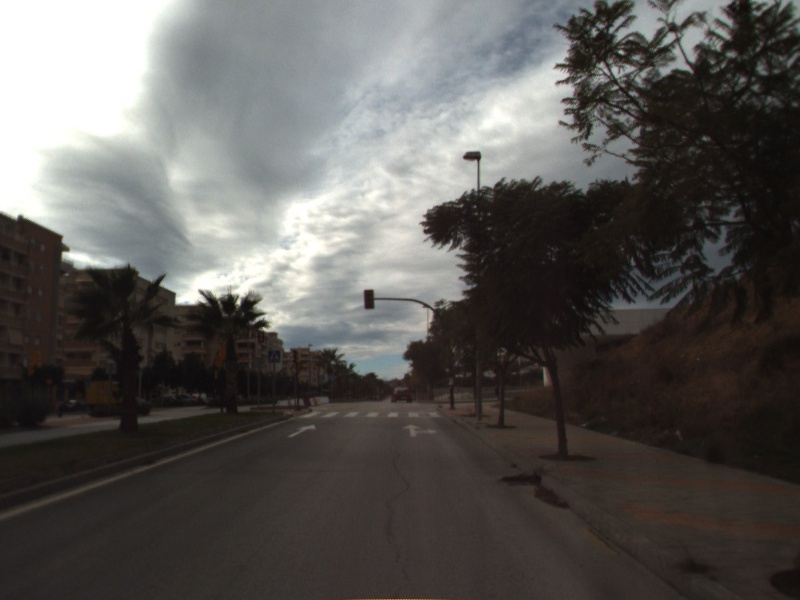STRAIGHT: (286, 422, 318, 439)
STRAIGHT_RIGHT: (401, 422, 439, 439)
